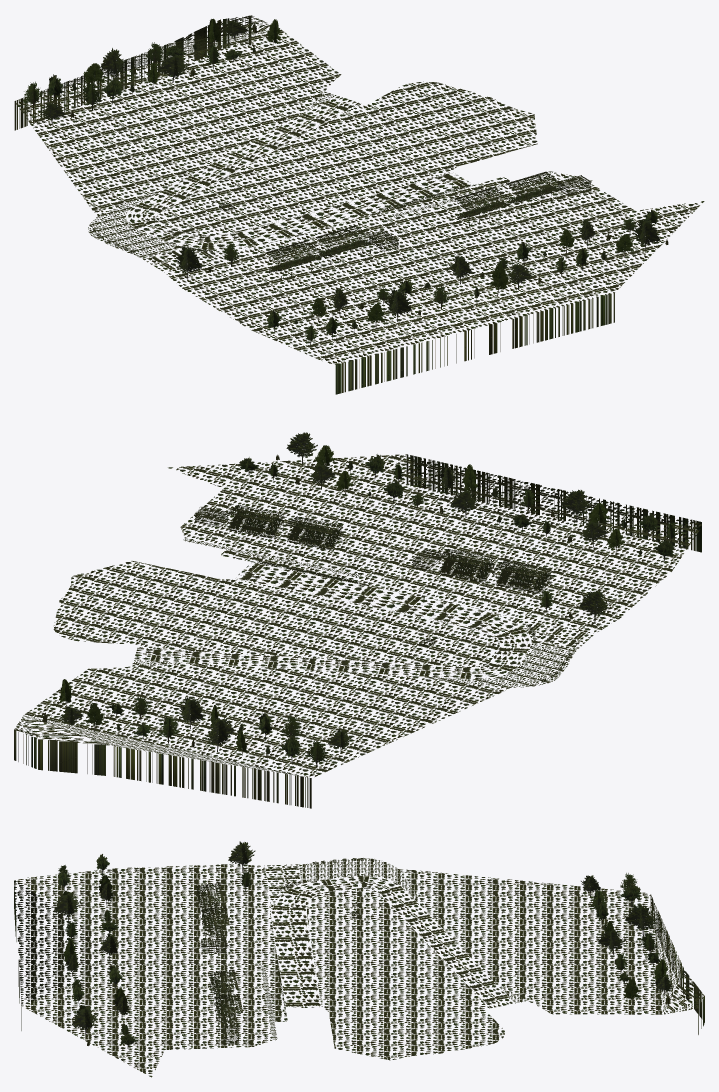
The model's file is redring8.glb.
3 renders of one model, top to bottom at view 1: azimuth 30°, elevation 25°; view 2: azimuth 150°, elevation 25°; view 3: azimuth 270°, elevation 25°, orthographic. The views are drawn at different scales.
Visible parts, largest first — view 1: redring8; view 2: redring8; view 3: redring8.
Boxes of the visible parts, <box> form: redring8: <box>14,15,704,394</box>; redring8: <box>14,432,701,808</box>; redring8: <box>14,841,704,1077</box>.
Size of the model in its own units: 230 by 28.04 by 305.
Materials: 1 (1 with a texture image).
